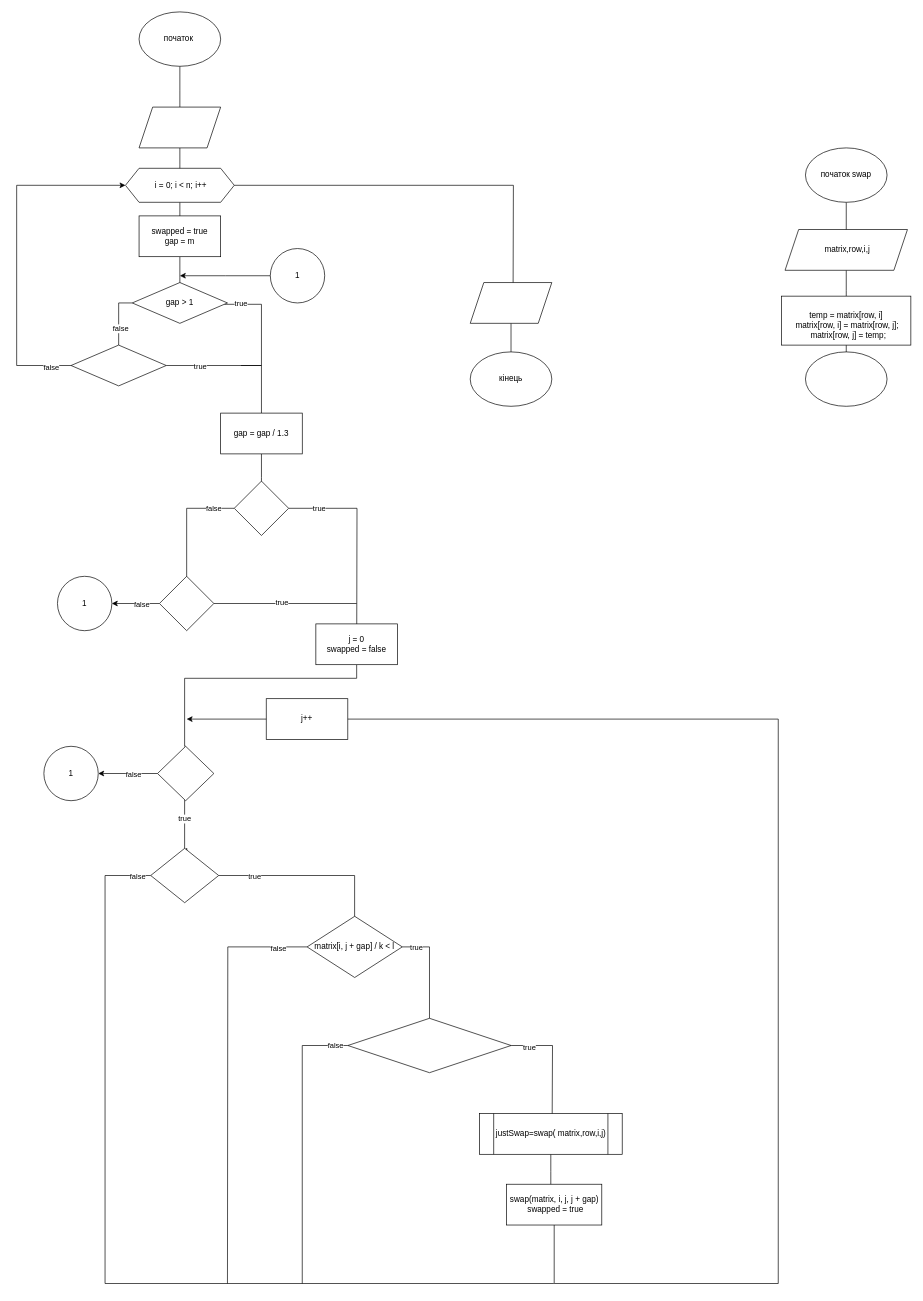
Some shapes in this 923 by 1301 pixel diagram are drawn without their labels. Each missing label, with the centre of its shape:
"gap = 1" belongs at [186,603].
"gap=0" belongs at [261,508].
"j + gap < m" belongs at [185,773].
"matrix[i, j] / k < l" belongs at [184,875].
"matrix[i, j] > matrix[i, j + gap]" belongs at [429,1045].
"matrix[n, m]" belongs at [511,302].
"n,m,k,l,chislo, matrix[n, m]" belongs at [179,127].
"swapped" belongs at [118,365].
"кінець swap" belongs at [846,378].
